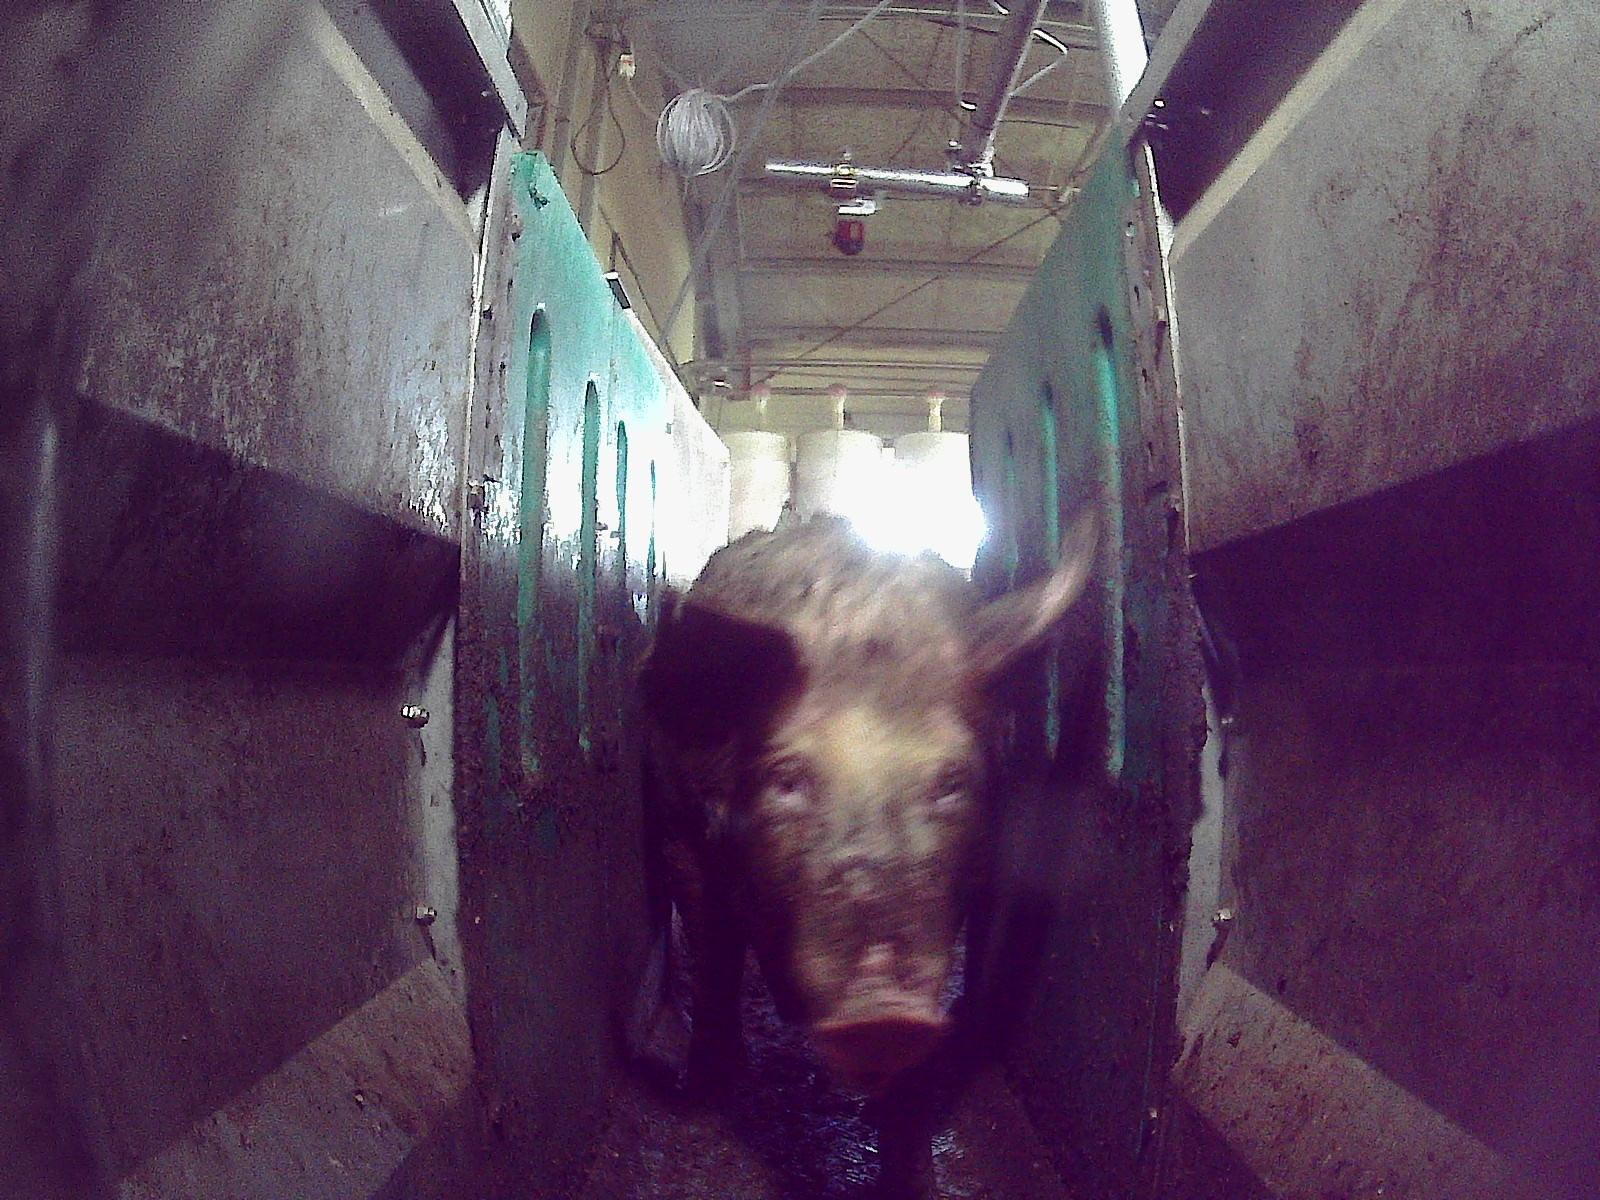Face: (752, 671, 981, 1078)
